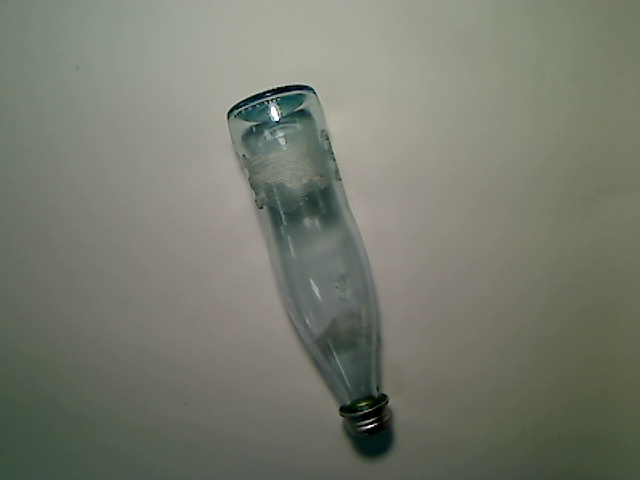bottle: (226, 84, 394, 437)
